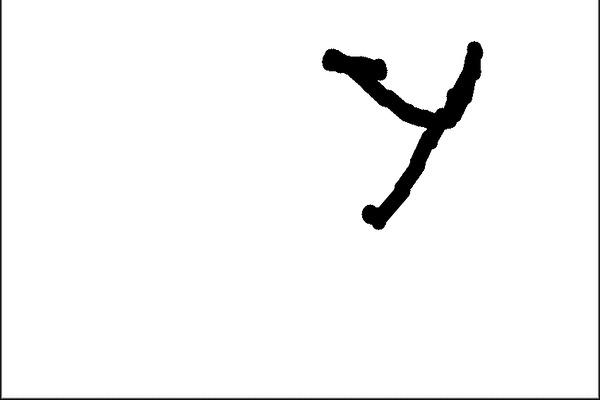Y: (316, 32, 494, 235)
